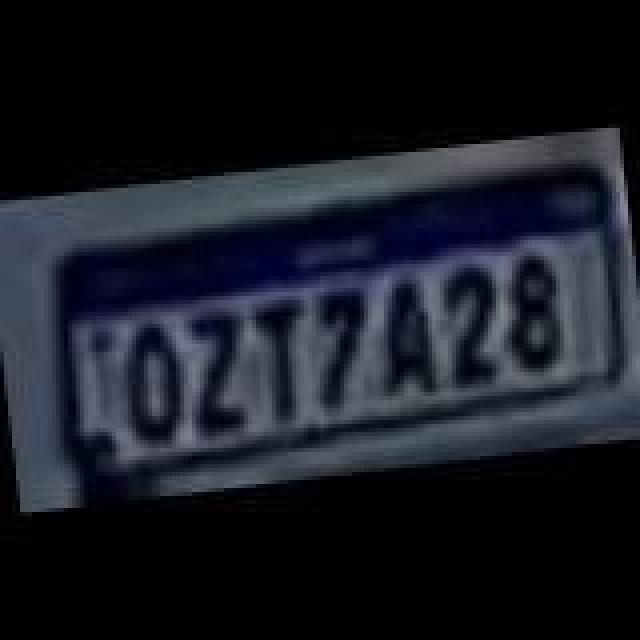2: (420, 256, 508, 384)
7: (304, 286, 384, 418)
8: (492, 244, 572, 380)
A: (368, 270, 448, 402)
O: (116, 320, 196, 456)
T: (242, 294, 318, 426)
Z: (178, 310, 262, 442)
